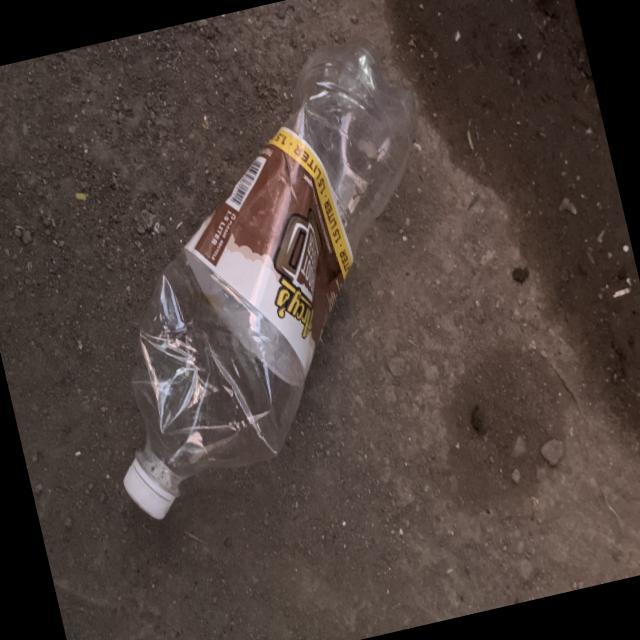Bottle: (122, 39, 414, 519)
